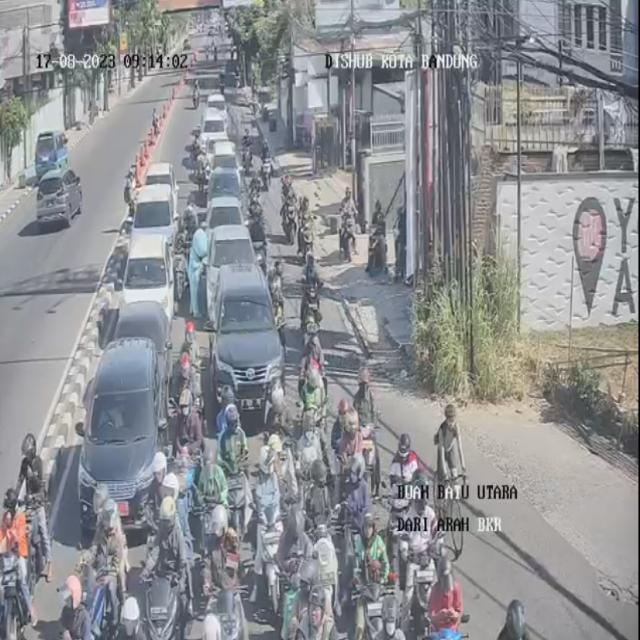cars: (75, 335, 161, 536), (214, 262, 286, 419), (111, 299, 175, 385), (123, 232, 179, 324), (205, 221, 256, 302), (136, 182, 178, 261), (208, 159, 244, 219), (166, 614, 238, 640), (203, 195, 242, 241), (145, 162, 178, 210), (209, 142, 240, 186), (202, 108, 228, 156), (205, 92, 230, 126)
motorcycle: (196, 499, 245, 634), (330, 402, 370, 554), (212, 399, 252, 547), (347, 351, 388, 491), (92, 499, 130, 640), (358, 517, 401, 638), (432, 412, 465, 556), (13, 433, 46, 574), (170, 390, 206, 514), (0, 491, 32, 628), (257, 438, 290, 559), (298, 343, 328, 454), (424, 564, 465, 640), (301, 460, 332, 558), (148, 464, 182, 552), (385, 430, 414, 525), (288, 579, 330, 639), (297, 246, 321, 331), (106, 602, 158, 640), (492, 600, 540, 640), (357, 602, 407, 640), (270, 255, 290, 329), (251, 208, 271, 278), (180, 316, 198, 390), (278, 171, 293, 246), (180, 196, 198, 249), (151, 110, 166, 160), (193, 142, 208, 188), (245, 168, 258, 218), (251, 171, 264, 219), (248, 155, 262, 193), (243, 132, 257, 170), (245, 146, 258, 180), (261, 147, 272, 187)
